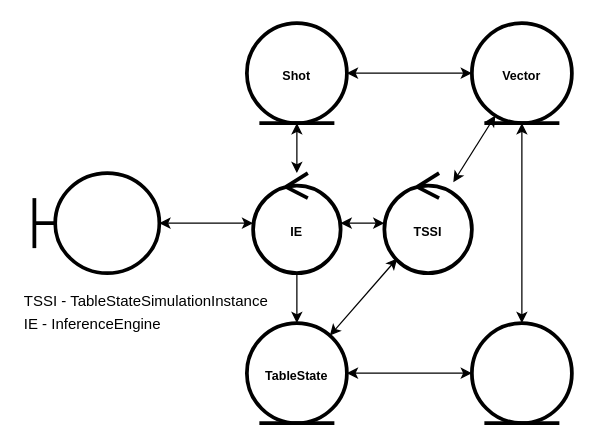
Image size: 595x446. Some labels were removed from this diagram. Each missing label, with the centre of its shape:
"Ball" belongs at point 521,372.
"Communicator" belongs at point 96,222.
